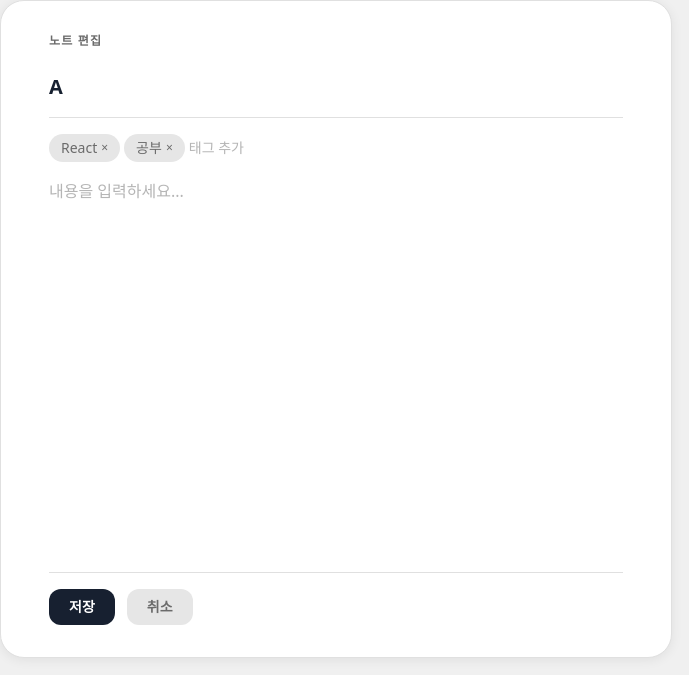
Test: NoteEditor 취소 롤백 › should 삭제한 칩을 원상 복구한다 when 기존 노트 편집 중 칩을 삭제하고 취소를 누른다
# 공부 삭제 → 로컬에서 사라짐
Click the button named "공부 삭제": (169, 148) [166,140,173,156]
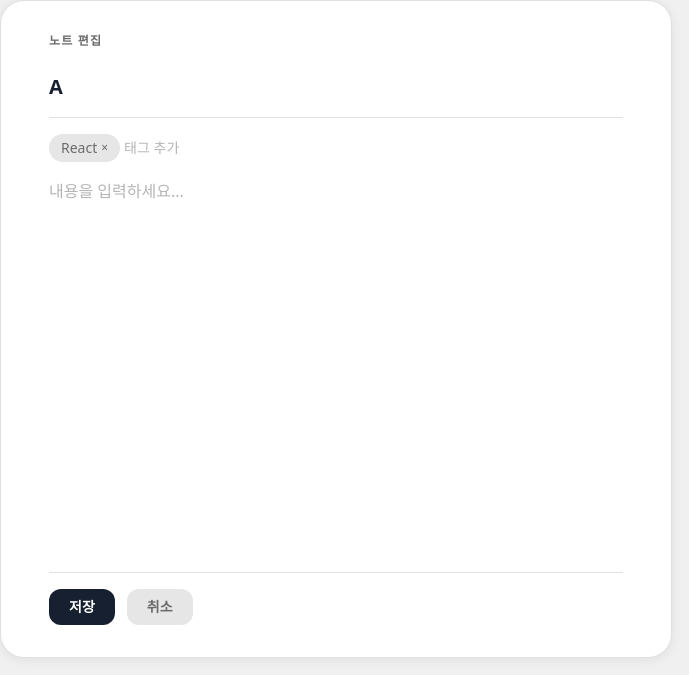
Now the text "공부" is gone
Click the button "취소": (160, 607) [127,589,193,625]
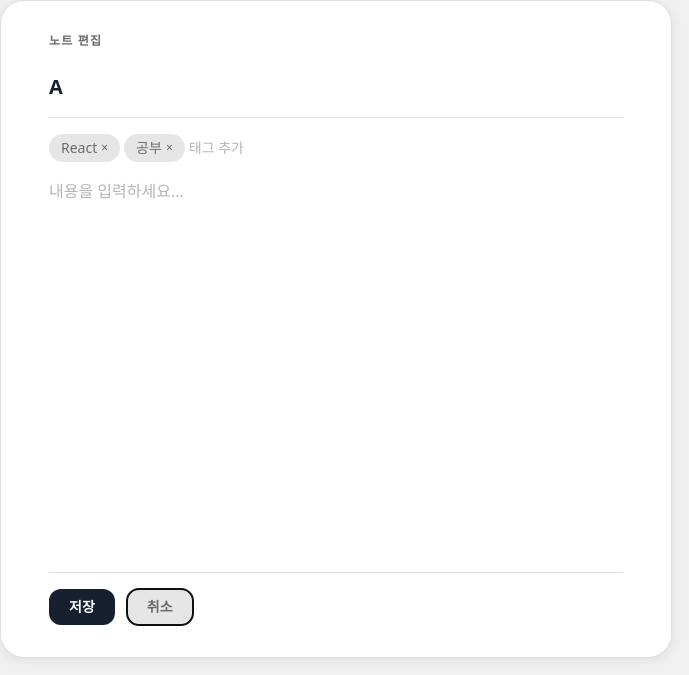
Expected: the text "React" is shown, [61,138,97,157]
Now the text "공부" is shown, box [136,138,162,157]
